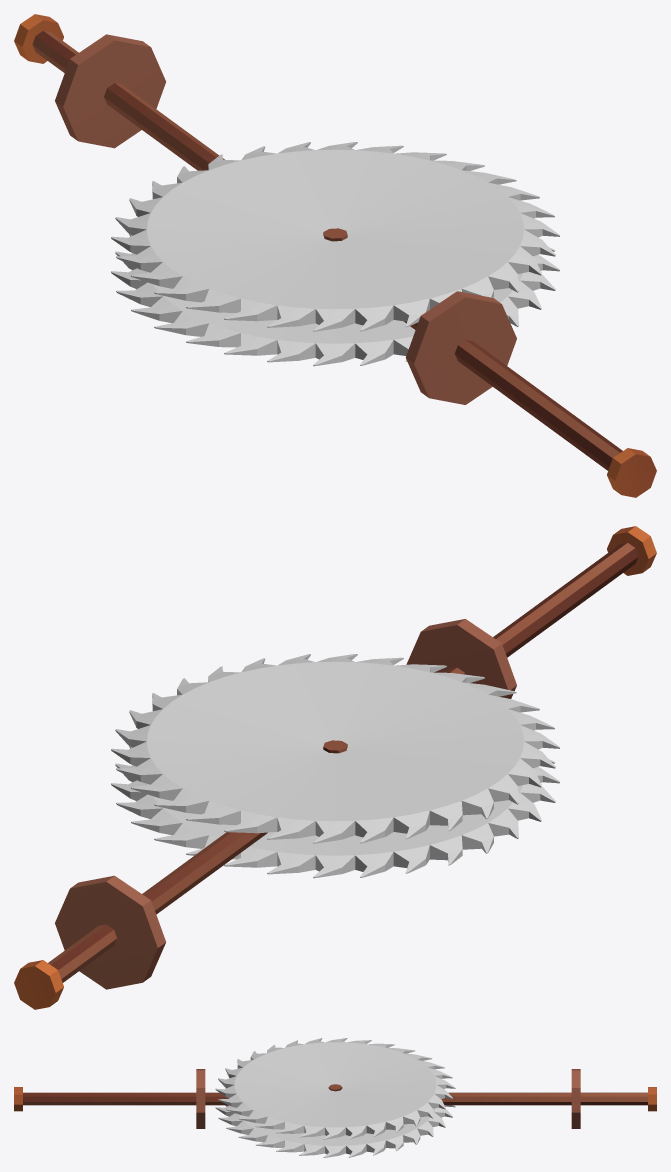
Rendered from saw.glb.
The picture shows the model from 3 angles, top to bottom: view 1: azimuth 30°, elevation 25°; view 2: azimuth 150°, elevation 25°; view 3: azimuth 270°, elevation 25°; orthographic projection. The views are drawn at different scales.
Visible parts, largest first — view 1: Saw, Saw_Holder; view 2: Saw, Saw_Holder; view 3: Saw, Saw_Holder.
Part boxes in pixels (x1=…): Saw: x1=111, y1=142, x2=559, y2=366; Saw_Holder: x1=14, y1=14, x2=656, y2=497; Saw: x1=111, y1=654, x2=559, y2=878; Saw_Holder: x1=14, y1=526, x2=656, y2=1009; Saw: x1=215, y1=1038, x2=455, y2=1157; Saw_Holder: x1=14, y1=1069, x2=656, y2=1128.
Bounding box in the file's own units: 2.9 × 0.7726 × 7.8.
Materials: 2 (1 with a texture image).
